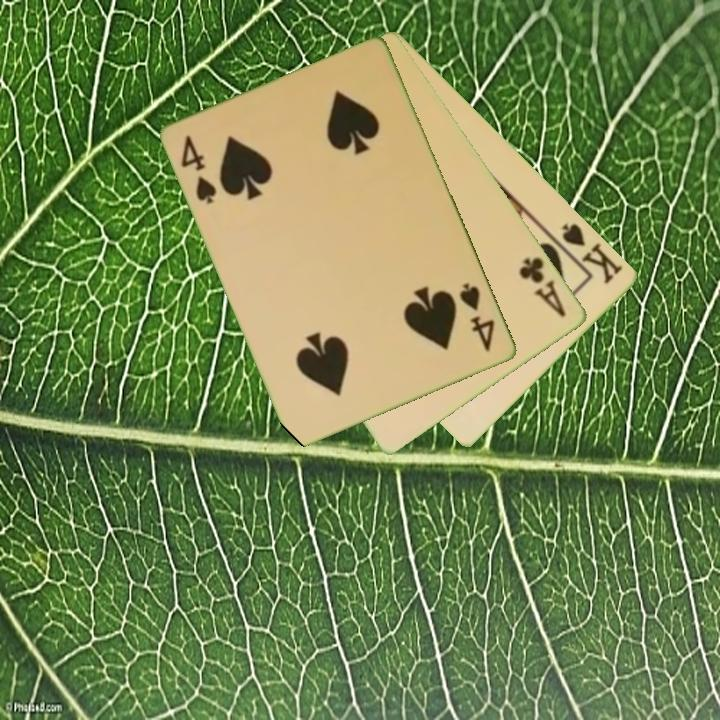4s: (177, 132, 220, 207), (456, 279, 498, 355)
Ac: (515, 253, 570, 321)
Ks: (550, 220, 626, 287)
